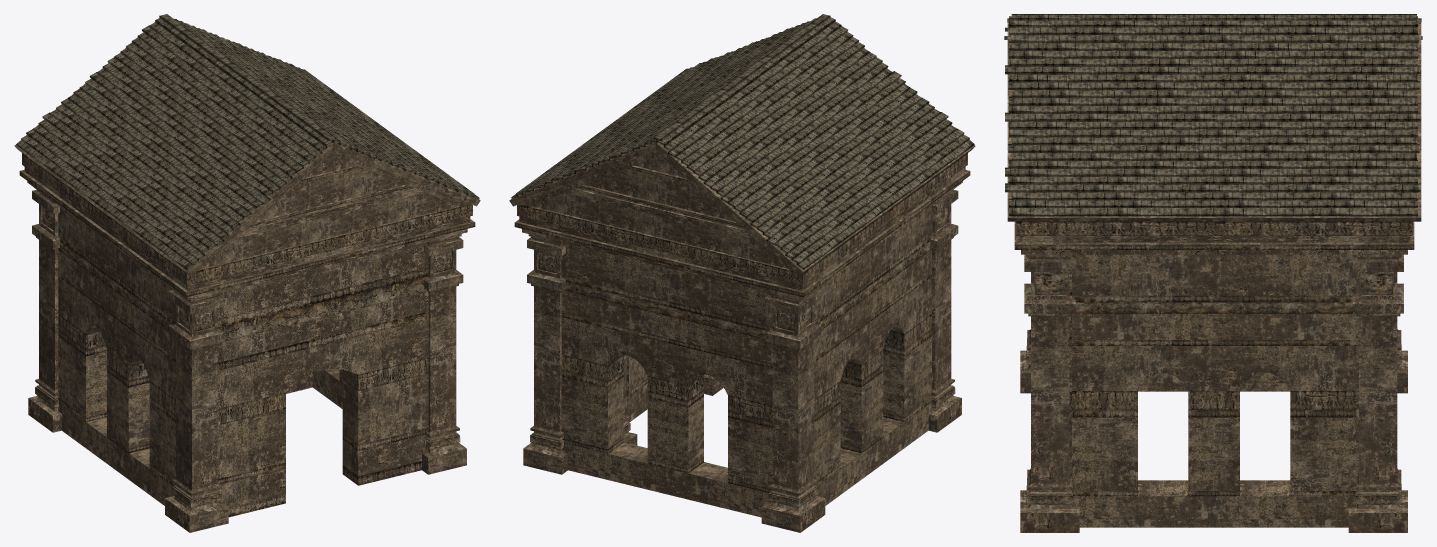
The model's file is materials_5_building_7.fbx.
The picture shows the model from 3 angles, left to right: view 1: azimuth 30°, elevation 25°; view 2: azimuth 150°, elevation 25°; view 3: azimuth 270°, elevation 25°; orthographic projection. The views are drawn at different scales.
Parts seen in each view (by area): view 1: materials_5_building_7; view 2: materials_5_building_7; view 3: materials_5_building_7.
Part boxes in pixels (x1,y1,x2,y2): materials_5_building_7: (14, 14, 480, 532); materials_5_building_7: (509, 14, 975, 532); materials_5_building_7: (1004, 14, 1422, 532).
Size of the model in its own units: 701 by 828 by 720.
